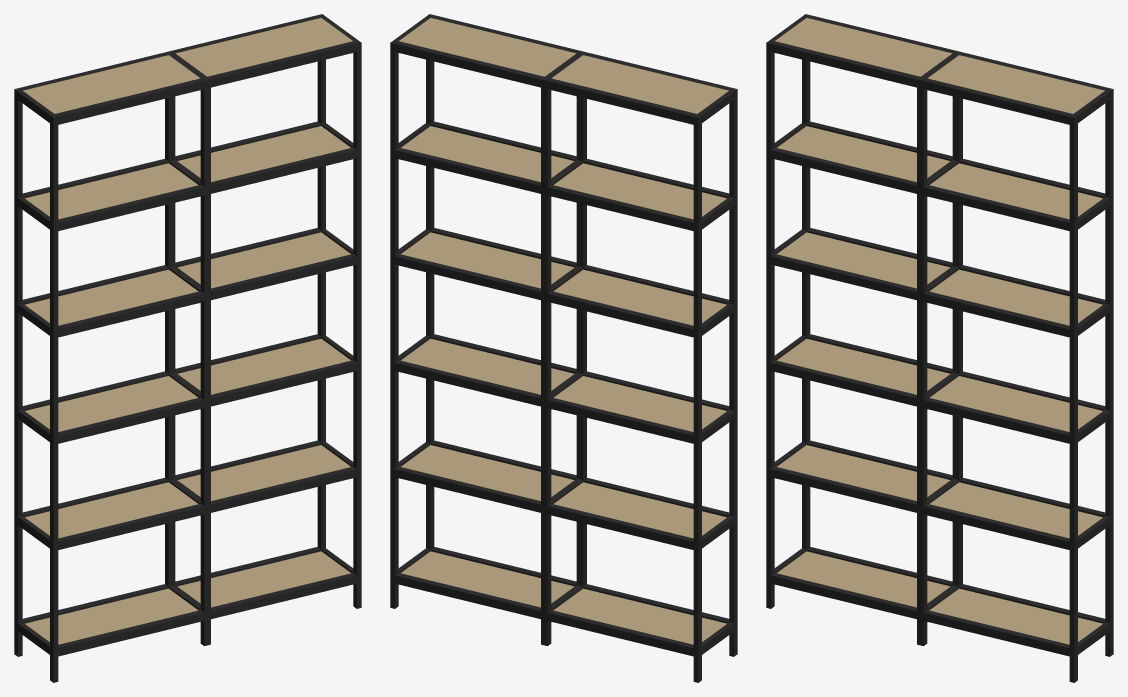
File: BookShelf_5.fbx
3 renders of one model, left to right at view 1: azimuth 30°, elevation 25°; view 2: azimuth 150°, elevation 25°; view 3: azimuth 330°, elevation 25°, orthographic.
Visible parts, largest first — view 1: BookShelf5; view 2: BookShelf5; view 3: BookShelf5.
Part boxes in pixels (x1,y1,x2,y2): BookShelf5: (14, 14, 361, 682); BookShelf5: (390, 14, 737, 682); BookShelf5: (766, 14, 1113, 682).
Bounding box in the file's own units: 384 × 674 × 84.71.
